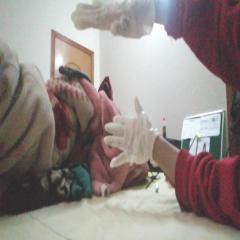gloved: (104, 97, 155, 165), (70, 0, 154, 40)
